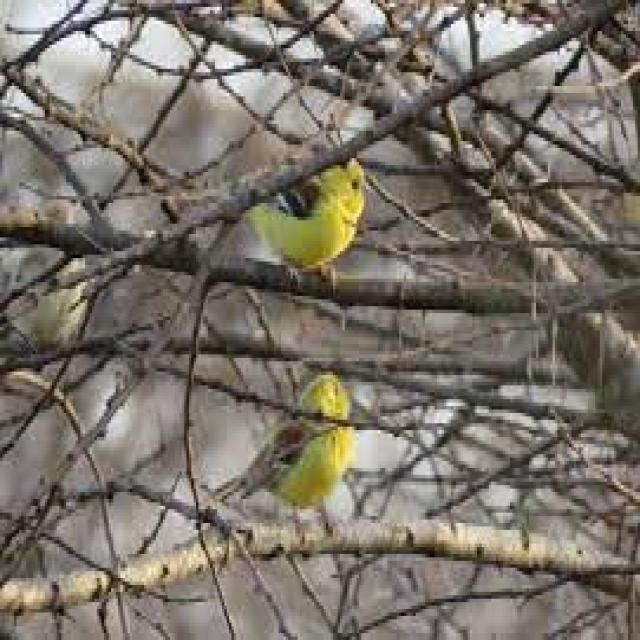bird: (203, 356, 355, 534), (231, 154, 360, 279)
